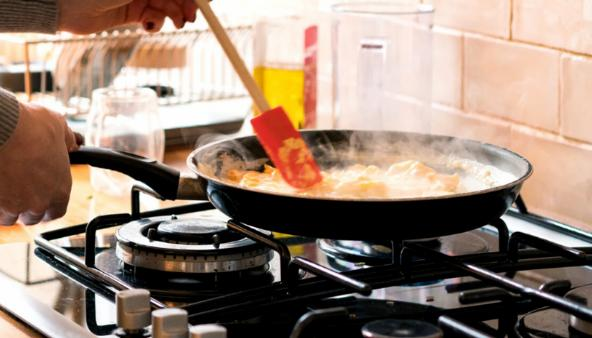controlled_fire: (289, 229, 390, 278)
